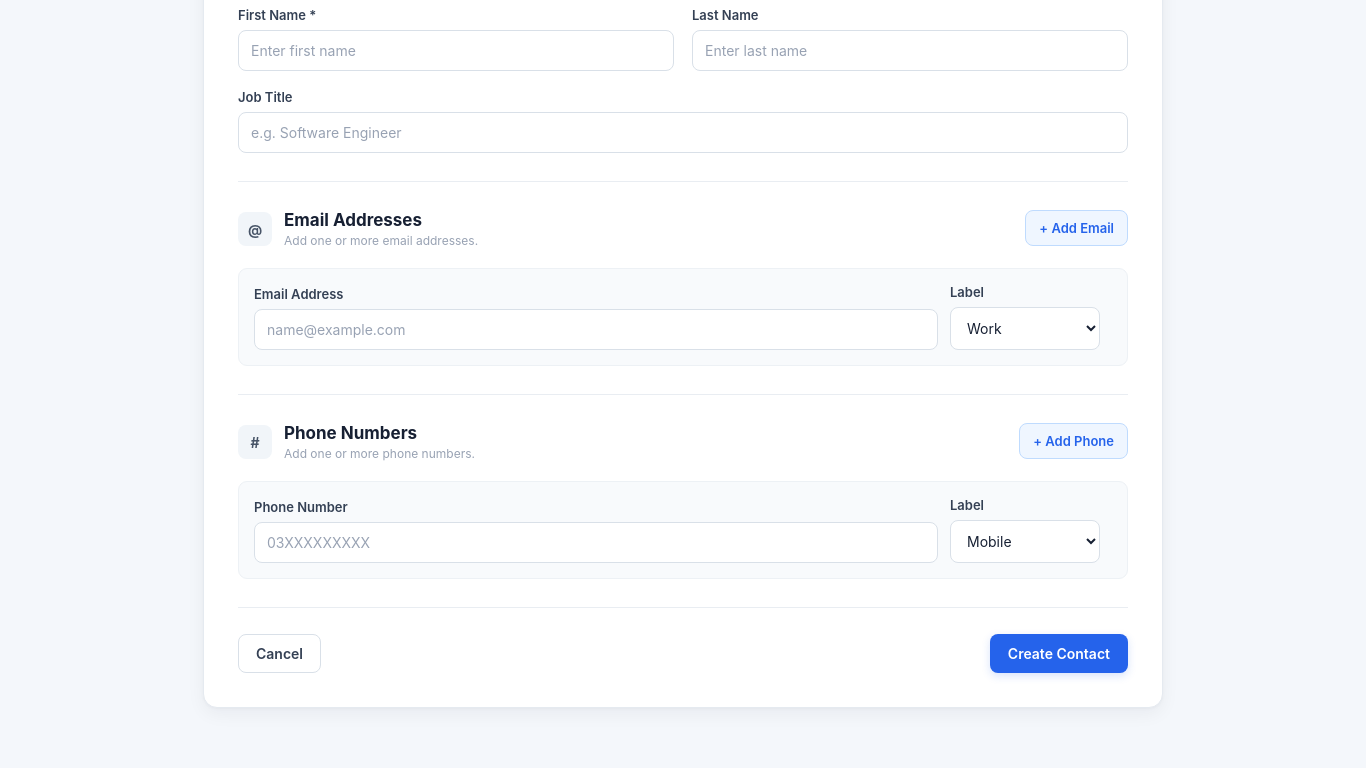
Scenario: AddContact › shows first name validation error
(page scrolled)
Click the button "Create Contact" at (1059, 654), box [990, 634, 1128, 673]
(page scrolled)
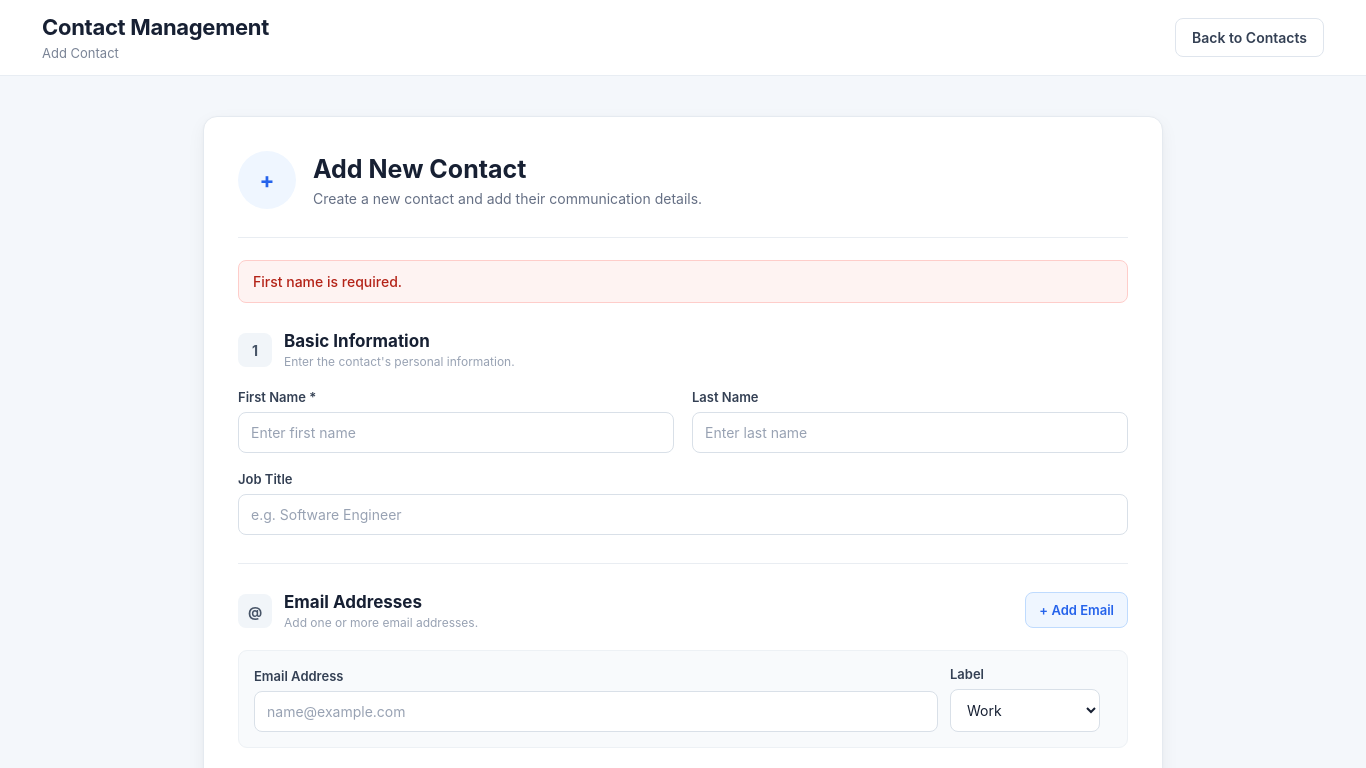
Result: the text "First name is required." is shown at [238, 260, 1128, 303]
